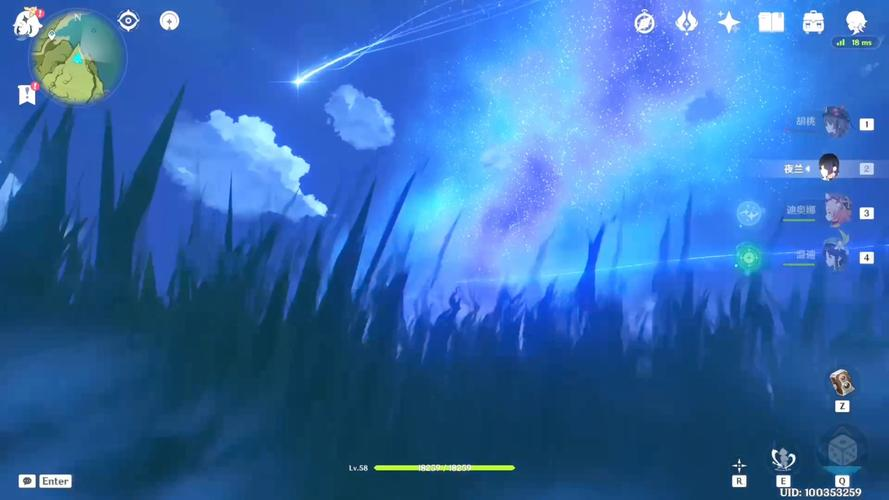夜兰: (815, 152, 846, 191)
